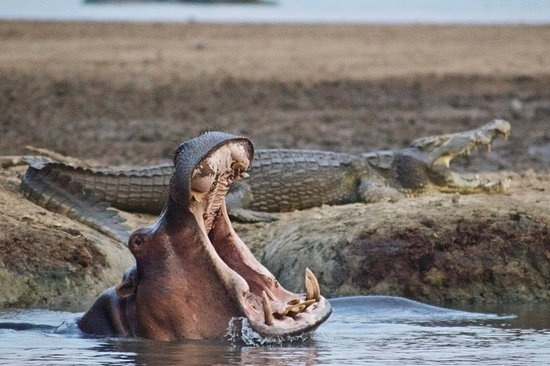crocodile: (22, 117, 525, 245)
